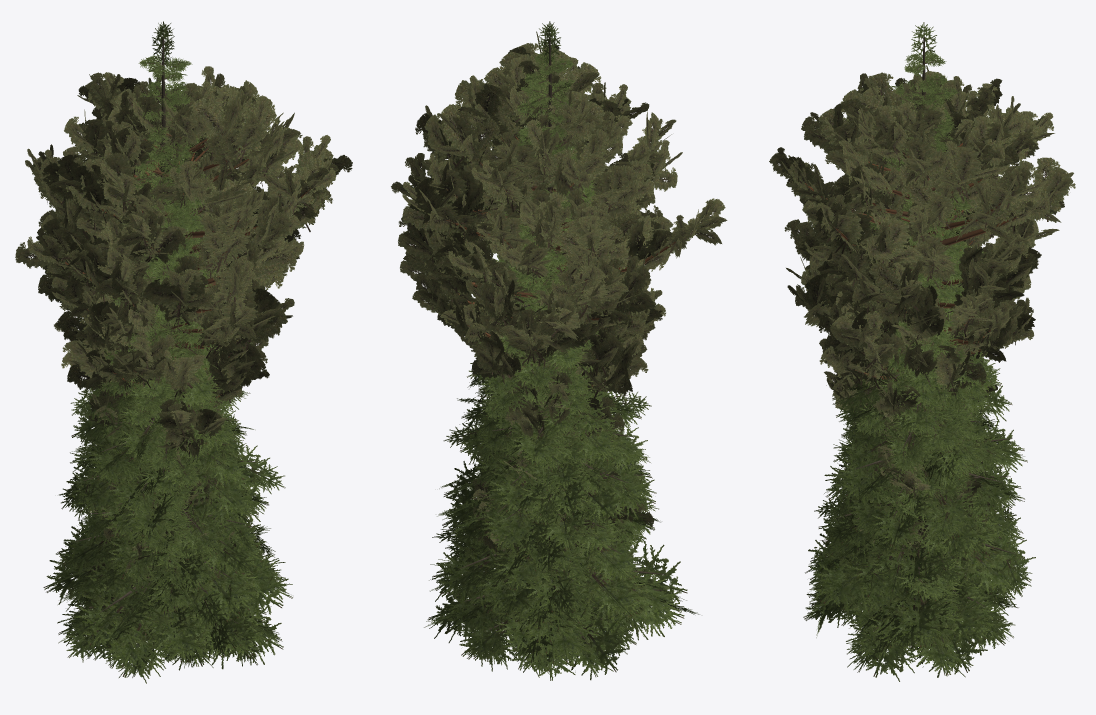
File: trees.glb
3 renders of one model, left to right at view 1: azimuth 30°, elevation 25°; view 2: azimuth 150°, elevation 25°; view 3: azimuth 270°, elevation 25°, orthographic. The views are drawn at different scales.
Parts seen in each view (by area): view 1: fir-b__branches, pine-c__branches, pine-a__branches, fir-a__branches, pine-b__branches, pine-young__branches, pine-c__bark, fir-b__bark; view 2: fir-b__branches, pine-c__branches, pine-a__branches, fir-a__branches, pine-b__branches, pine-young__branches, fir-b__bark; view 3: fir-b__branches, pine-c__branches, pine-a__branches, fir-a__branches, pine-b__branches, pine-young__branches, pine-c__bark, fir-b__bark.
Boxes of the visible parts, x1,y1,x2,y2 form: fir-b__branches: (43,21,292,683); pine-c__branches: (15,66,352,355); pine-a__branches: (38,151,297,399); fir-a__branches: (70,150,279,670); pine-b__branches: (86,268,269,457); pine-young__branches: (88,389,240,578); pine-c__bark: (61,128,311,357); fir-b__bark: (74,37,256,623); fir-b__branches: (424,21,699,680); pine-c__branches: (391,31,727,361); pine-a__branches: (400,153,678,398); fir-a__branches: (451,149,652,677); pine-b__branches: (478,259,643,450); pine-young__branches: (472,371,653,561); fir-b__bark: (443,37,667,645); fir-b__branches: (803,22,1035,681); pine-c__branches: (769,65,1075,355); pine-a__branches: (784,152,1059,395); fir-a__branches: (810,191,1018,664); pine-b__branches: (819,246,997,417); pine-young__branches: (845,373,996,560); pine-c__bark: (805,137,1016,341); fir-b__bark: (820,37,1016,642).
Bounding box in the file's own units: 17.3 × 32.17 × 14.69.
4 materials, 4 textured.
